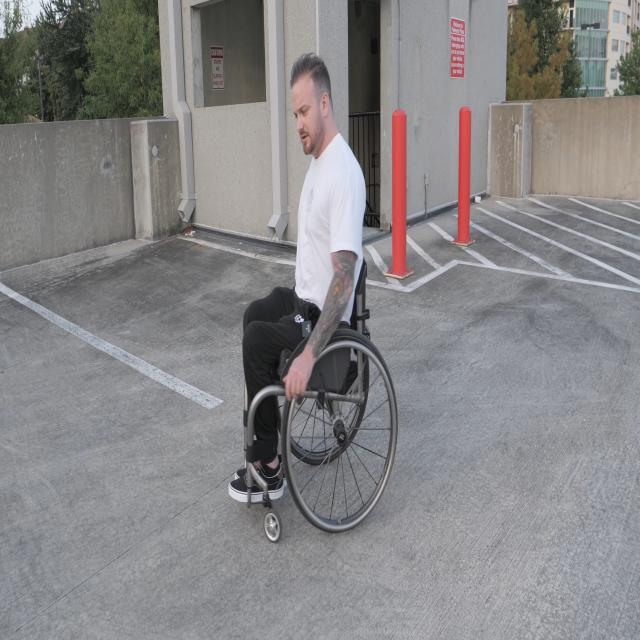wheelchairs: (243, 242, 399, 545)
